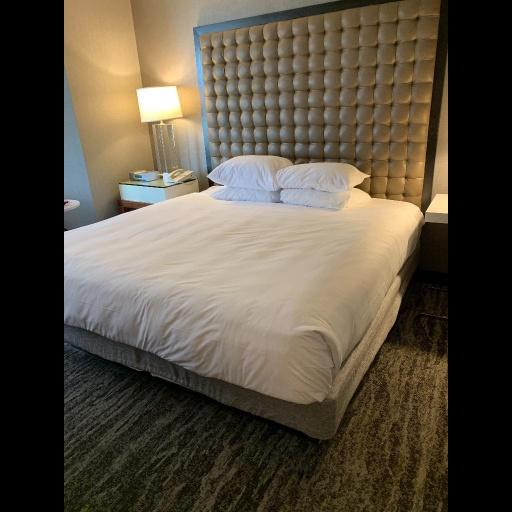clean_bed: (64, 0, 445, 446)
clean_floor: (64, 277, 448, 508)
lamp: (137, 88, 183, 172)
organised_pillow: (214, 155, 372, 208)
